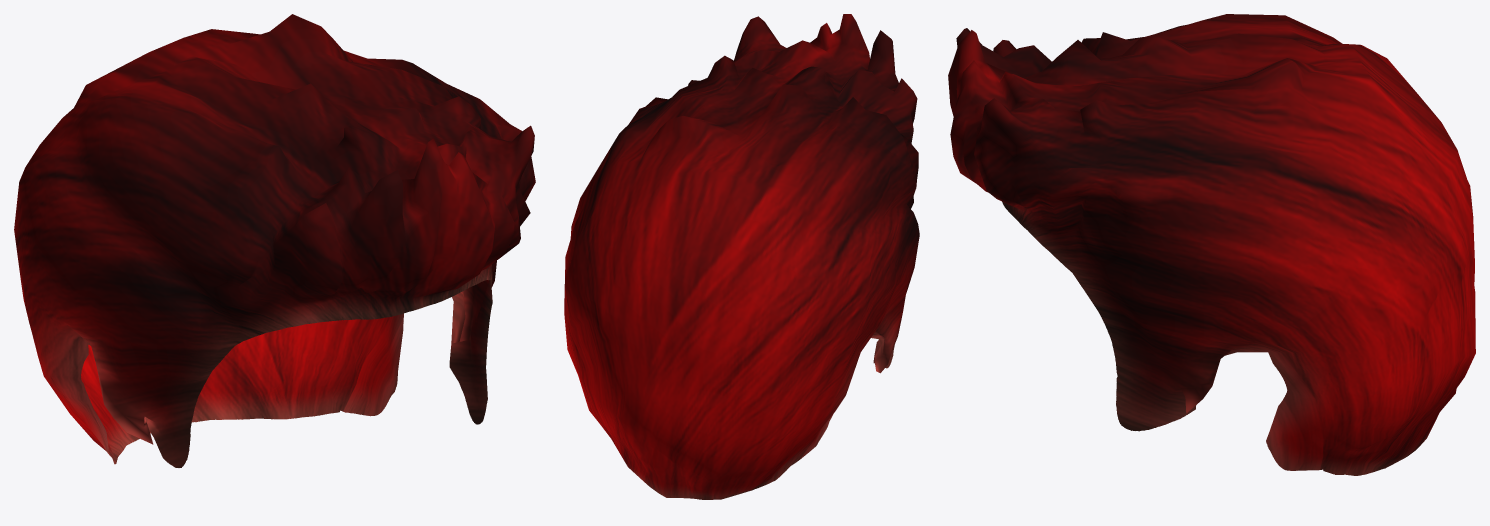
The model's file is mh_elvs_maxwell_hair.glb.
The picture shows the model from 3 angles, left to right: view 1: azimuth 30°, elevation 25°; view 2: azimuth 150°, elevation 25°; view 3: azimuth 270°, elevation 25°; orthographic projection. The views are drawn at different scales.
Parts seen in each view (by area): view 1: mh_elvs_maxwell_hair; view 2: mh_elvs_maxwell_hair; view 3: mh_elvs_maxwell_hair.
Part boxes in pixels (left/top/right/bottom): mh_elvs_maxwell_hair: left=14, top=14, right=535, bottom=467; mh_elvs_maxwell_hair: left=564, top=14, right=919, bottom=499; mh_elvs_maxwell_hair: left=948, top=14, right=1475, bottom=475.
Bounding box in the file's own units: 0.1909 × 0.2218 × 0.2419.
1 material, 1 textured.
